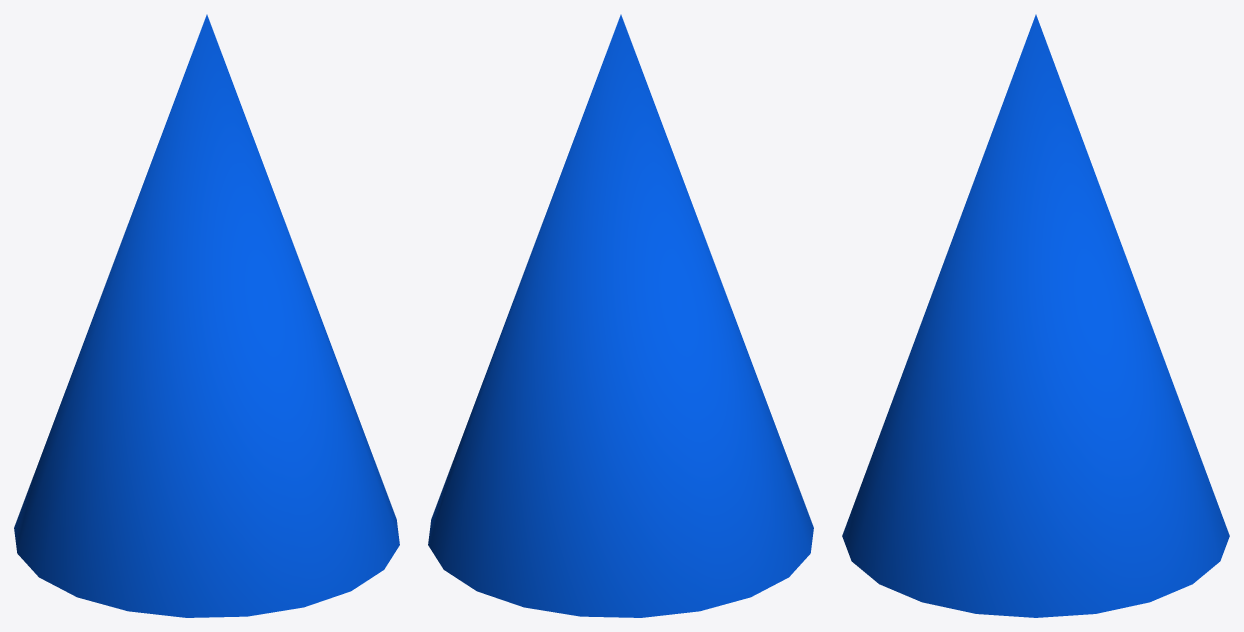
3 renders of one model, left to right at view 1: azimuth 30°, elevation 25°; view 2: azimuth 150°, elevation 25°; view 3: azimuth 270°, elevation 25°, orthographic.
Visible parts, largest first — view 1: pCone1; view 2: pCone1; view 3: pCone1.
Boxes of the visible parts, left/top/right/bottom form: pCone1: left=14, top=14, right=399, bottom=617; pCone1: left=428, top=14, right=813, bottom=617; pCone1: left=842, top=14, right=1229, bottom=617.
Bounding box in the file's own units: 5.07 × 7.53 × 5.07.
